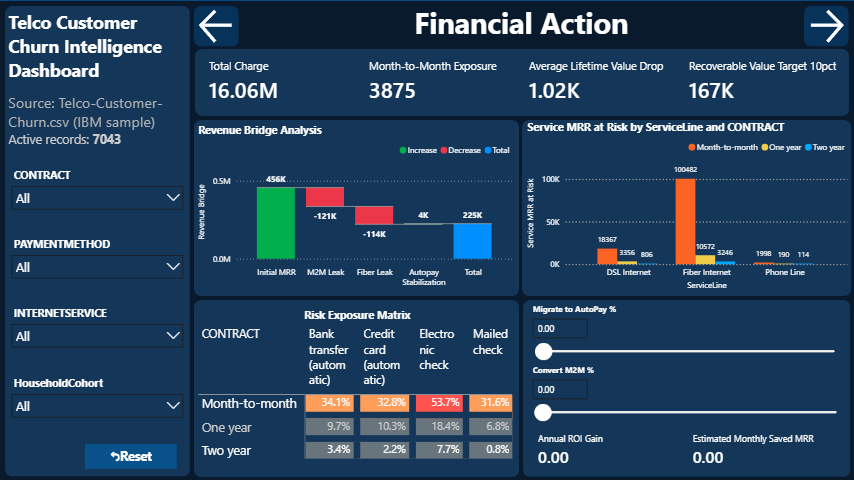

Layout of this report page (visuals, bound fields, positions):
{"tool":"powerbi","page":{"name":"Financial Action","canvas":[1280,720],"ordinal":4},"visuals":[{"type":"group","id":"g1","title":"Group 1","box":[0,0,1280.2,720],"z":0,"group":"g3"},{"type":"shape","box":[0,0,1280.2,720],"z":0,"group":"g1"},{"type":"slicer","fields":{"Values":["TELCO_CUSTOMER_CHURN.CONTRACT"]},"box":[10.5,245,276.3,103.4],"z":0,"group":"g2"},{"type":"shape","box":[10.4,9.6,276.5,702.6],"z":1000,"group":"g1"},{"type":"slicer","fields":{"Values":["TELCO_CUSTOMER_CHURN.INTERNETSERVICE"]},"box":[10.5,451.7,276.3,103.4],"z":1000,"group":"g2"},{"type":"cardVisual","fields":{"Data":["Convert M2M %.Annual ROI Gain","Convert M2M %.Estimated Monthly Saved MRR"]},"box":[786.2,630.3,488.2,82.2],"z":1000,"group":"g3"},{"type":"shape","box":[293.8,73.1,977.3,100],"z":2000,"group":"g1"},{"type":"cardVisual","fields":{"Data":["Sum(TELCO_CUSTOMER_CHURN.TOTALCHARGES)","TELCO_CUSTOMER_CHURN.Month-to-Month Exposure","TELCO_CUSTOMER_CHURN.Average Lifetime Value Drop","TELCO_CUSTOMER_CHURN.Recoverable Value Target 10pct"]},"box":[294.3,73.2,985.9,95.6],"z":2000,"group":"g3"},{"type":"slicer","fields":{"Values":["TELCO_CUSTOMER_CHURN.PAYMENTMETHOD"]},"box":[10.5,348.4,276.3,103.4],"z":2000,"group":"g2"},{"type":"shape","box":[293,179.5,485.5,263],"z":3000,"group":"g1"},{"type":"slicer","fields":{"Values":["Convert M2M %.Convert M2M %"]},"box":[786.2,539.5,488.2,90.8],"z":3000,"group":"g3"},{"type":"slicer","fields":{"Values":["TELCO_CUSTOMER_CHURN.HouseholdCohort"]},"box":[10.5,555.1,276.3,94.7],"z":3000,"group":"g2"},{"type":"shape","box":[782.5,179.5,492,263],"z":4000,"group":"g1"},{"type":"actionButton","box":[130,663.2,137.4,37.3],"z":4000,"group":"g3"},{"type":"shape","box":[784.9,447.9,489,264.4],"z":5000,"group":"g1"},{"type":"slicer","fields":{"Values":["Migrate to AutoPay %.Migrate to AutoPay %"]},"box":[785.4,447.9,485.2,91.8],"z":5000,"group":"g3"},{"type":"textbox","box":[616.9,0,331.6,76.2],"z":6000,"group":"g3"},{"type":"shape","box":[292.7,447.8,485.7,264.6],"z":6000,"group":"g1"},{"type":"group","id":"g2","title":"Group 2","box":[10.5,245,276.3,404.8],"z":7000,"group":"g3"},{"type":"waterfallChart","title":"Revenue Bridge Analysis","fields":{"Category":["BridgeStage.StageName"],"Y":["BridgeStage.Revenue Bridge"]},"box":[294.4,183.8,479.4,253.8],"z":8000,"group":"g3"},{"type":"clusteredColumnChart","fields":{"Category":["TELCO_CUSTOMER_CHURN.ServiceLine"],"Y":["TELCO_CUSTOMER_CHURN.Service MRR at Risk"],"Series":["TELCO_CUSTOMER_CHURN.CONTRACT"]},"box":[785.7,179.3,488.5,258.4],"z":9000,"group":"g3"},{"type":"pivotTable","title":"Risk Exposure Matrix","fields":{"Values":["TELCO_CUSTOMER_CHURN.Cohort Churn Rate"],"Rows":["TELCO_CUSTOMER_CHURN.CONTRACT"],"Columns":["TELCO_CUSTOMER_CHURN.PAYMENTMETHOD"]},"box":[293.9,460.4,485.2,252],"z":10000,"group":"g3"},{"type":"textbox","box":[10.5,9,276.3,236],"z":11000,"group":"g3"},{"type":"group","id":"g3","title":"Group 3","box":[0,0,1280.2,720],"z":11001},{"type":"actionButton","box":[293,9.5,66.9,60.6],"z":12000,"group":"g3"},{"type":"actionButton","box":[1204.2,9.5,66.9,60.6],"z":13000,"group":"g3"}]}

Visuals, with their boxes in screenshot pixels (x1, y1, x2, y2), scaled from the page's 1280x720 canvas onto the 854x480 screenshot:
"Group 1" group: left=0, top=0, right=853, bottom=479
shape: left=0, top=0, right=853, bottom=479
slicer - TELCO_CUSTOMER_CHURN.CONTRACT: left=7, top=163, right=191, bottom=232
shape: left=7, top=6, right=191, bottom=475
slicer - TELCO_CUSTOMER_CHURN.INTERNETSERVICE: left=7, top=301, right=191, bottom=370
cardVisual - Convert M2M %.Annual ROI Gain x Convert M2M %.Estimated Monthly Saved MRR: left=525, top=420, right=850, bottom=475
shape: left=196, top=49, right=848, bottom=115
cardVisual - Sum(TELCO_CUSTOMER_CHURN.TOTALCHARGES) x TELCO_CUSTOMER_CHURN.Month-to-Month Exposure: left=196, top=49, right=853, bottom=113
slicer - TELCO_CUSTOMER_CHURN.PAYMENTMETHOD: left=7, top=232, right=191, bottom=301
shape: left=195, top=120, right=519, bottom=295
slicer - Convert M2M %.Convert M2M %: left=525, top=360, right=850, bottom=420
slicer - TELCO_CUSTOMER_CHURN.HouseholdCohort: left=7, top=370, right=191, bottom=433
shape: left=522, top=120, right=850, bottom=295
actionButton: left=87, top=442, right=178, bottom=467
shape: left=524, top=299, right=850, bottom=475
slicer - Migrate to AutoPay %.Migrate to AutoPay %: left=524, top=299, right=848, bottom=360
textbox: left=412, top=0, right=633, bottom=51
shape: left=195, top=299, right=519, bottom=475
"Group 2" group: left=7, top=163, right=191, bottom=433
"Revenue Bridge Analysis" waterfallChart: left=196, top=123, right=516, bottom=292
clusteredColumnChart - TELCO_CUSTOMER_CHURN.ServiceLine x TELCO_CUSTOMER_CHURN.Service MRR at Risk: left=524, top=120, right=850, bottom=292
"Risk Exposure Matrix" pivotTable: left=196, top=307, right=520, bottom=475
textbox: left=7, top=6, right=191, bottom=163
"Group 3" group: left=0, top=0, right=853, bottom=479
actionButton: left=195, top=6, right=240, bottom=47
actionButton: left=803, top=6, right=848, bottom=47
